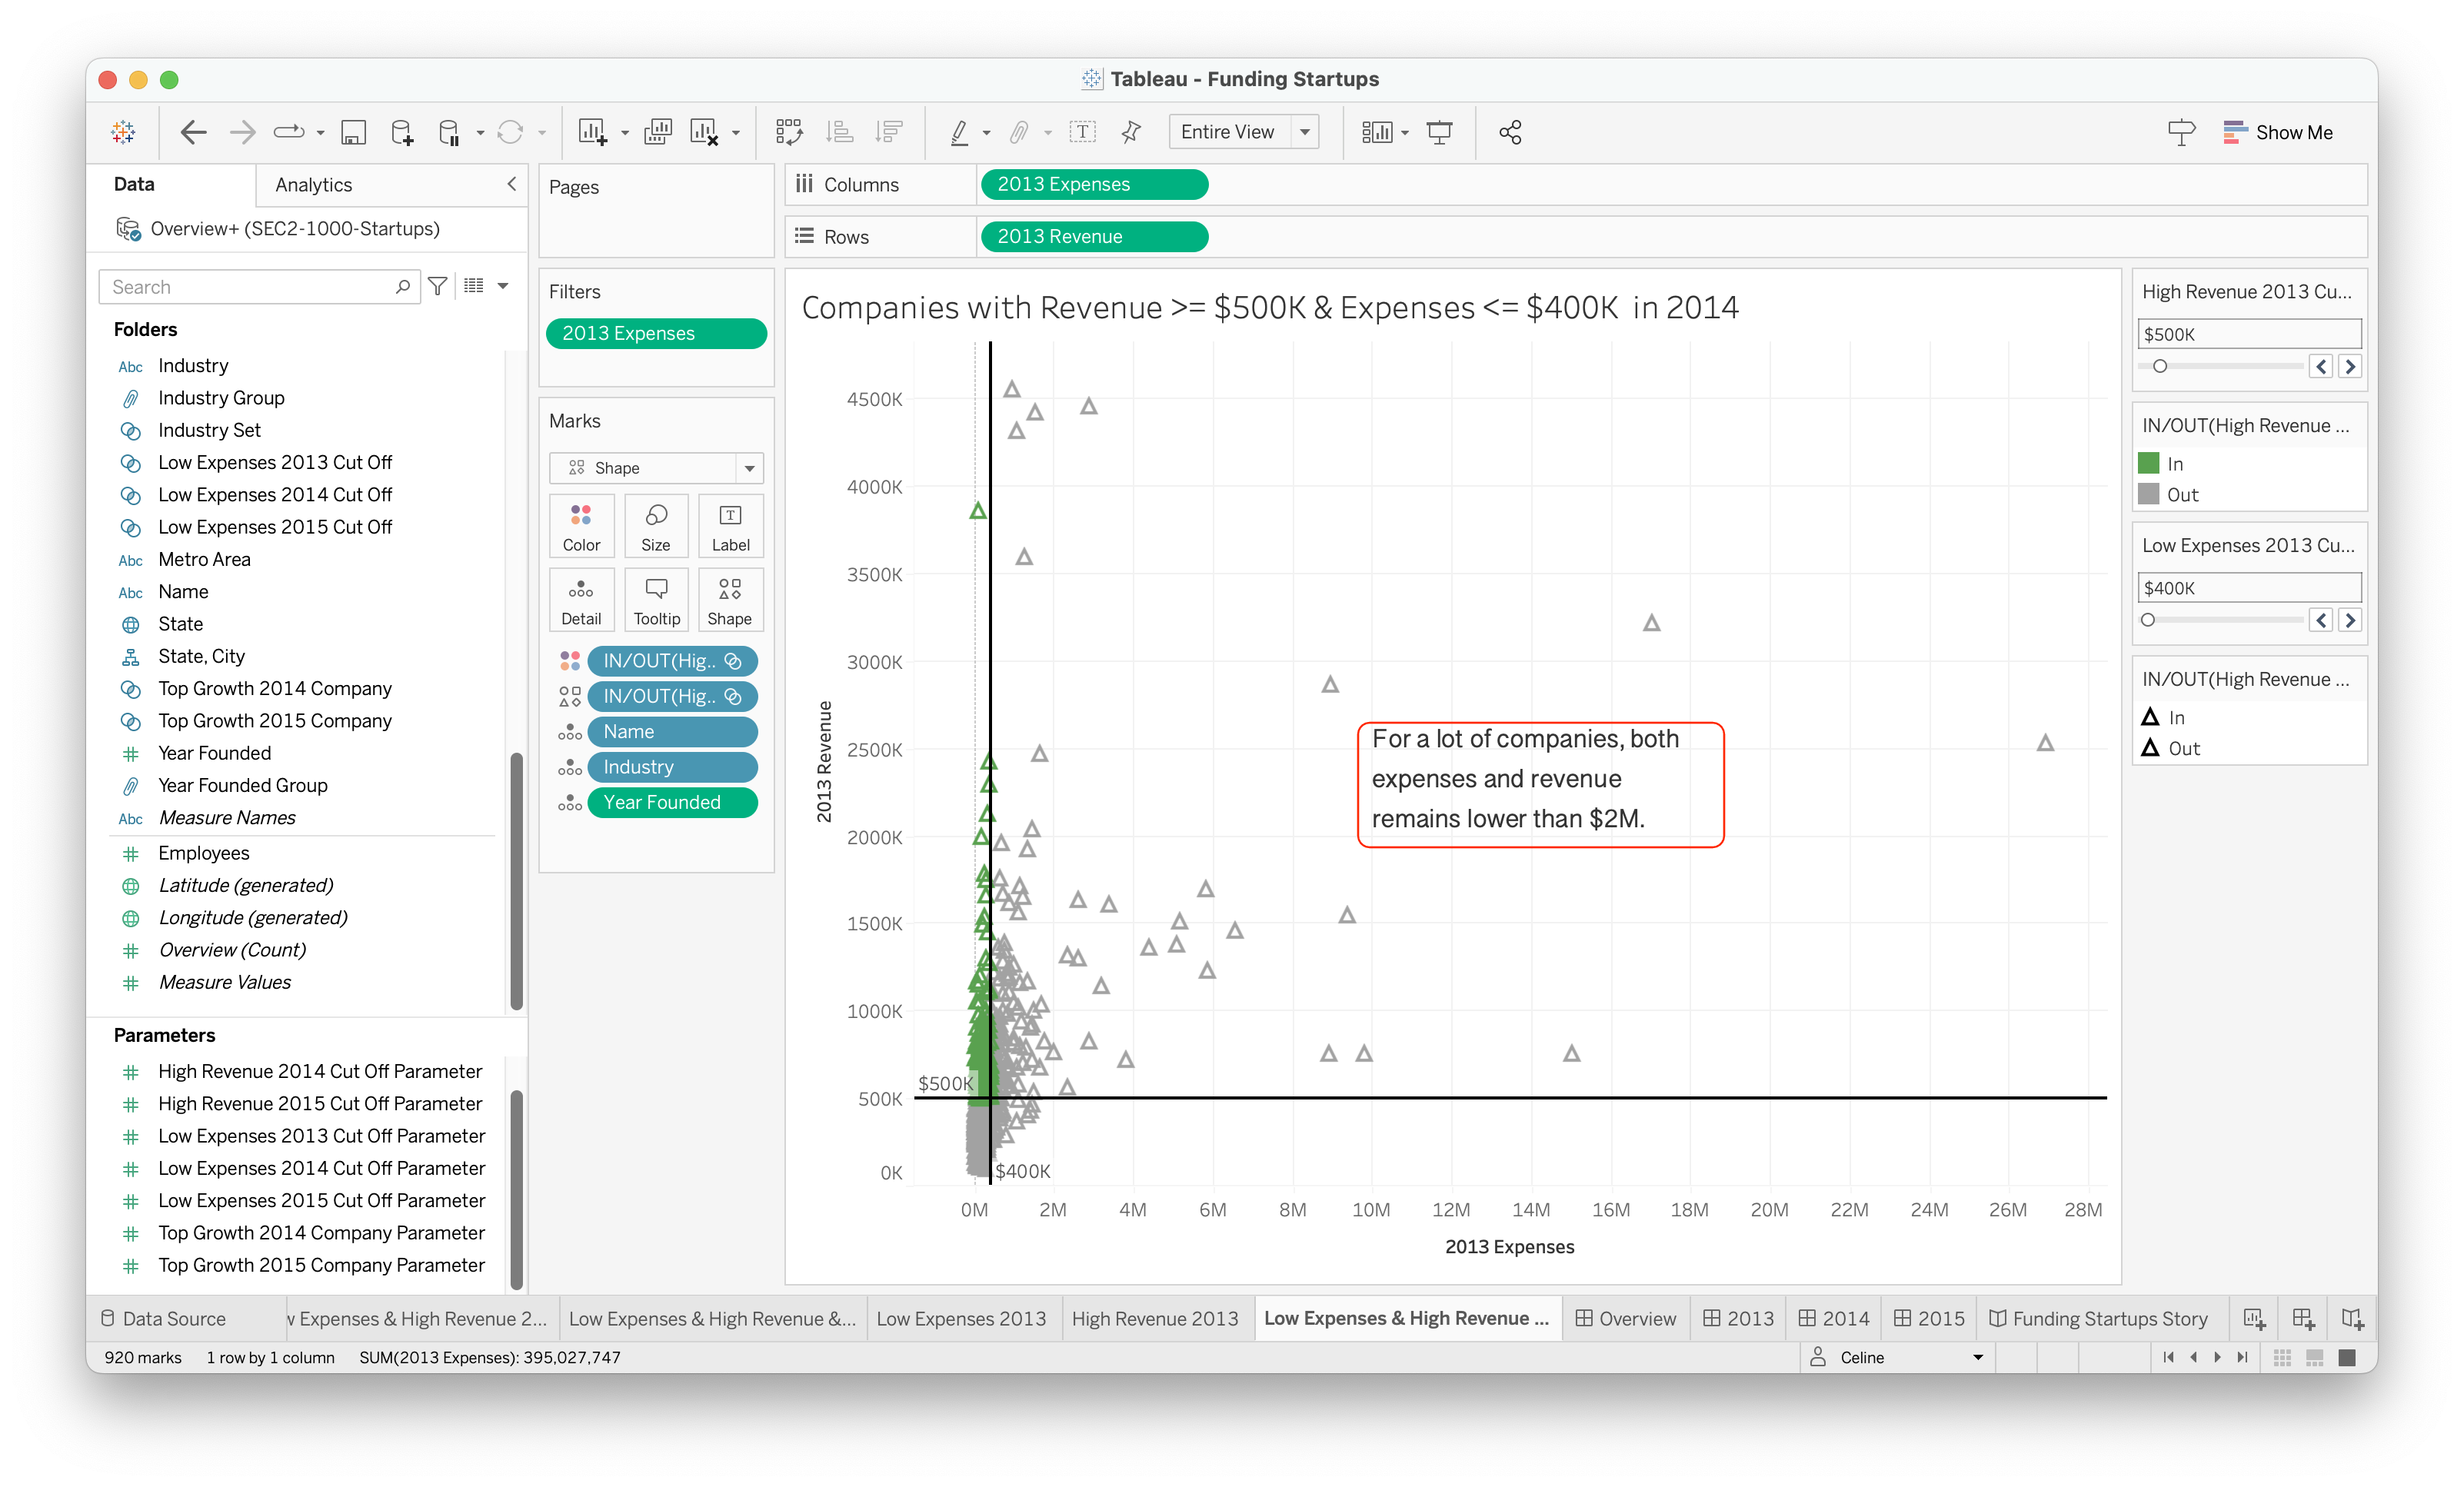

Layout of this report page (visuals, bound fields, positions):
{"tool":"tableau","page":{"name":"2013","canvas":[1000,800],"ordinal":0},"visuals":[{"type":"text","box":[8,8,984,62]},{"type":"parameter","param":"[Parameters].[High Revenue 2013 Cut Off Parameter]","box":[8,95,492,75]},{"type":"parameter","param":"[Parameters].[Low Expenses 2013 Parameter]","box":[500,95,492,75]},{"type":"worksheet","title":"Low Expenses & High Revenue 2013","mark":"Shape","rows":["2013 Revenue"],"cols":["2013 Expenses"],"box":[8,170,984,622]}]}

Visuals, with their boxes on the page's 1000x800 design canvas (x1, y1, x2, y2). These are canvas units, not pixel positions in the 2464x1487 screenshot, which may show the page scaled, cropped or inside an application window:
text: [8, 8, 992, 70]
parameter: [8, 95, 500, 170]
parameter: [500, 95, 992, 170]
"Low Expenses & High Revenue 2013" worksheet (Shape marks): [8, 170, 992, 792]
